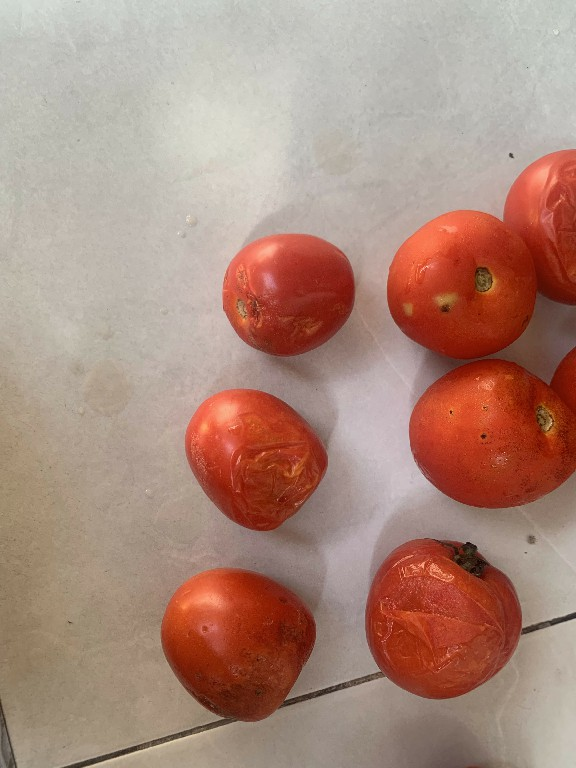NG: (351, 529, 519, 704), (155, 555, 329, 721), (401, 355, 573, 513), (387, 202, 547, 358), (179, 378, 334, 534), (213, 219, 374, 352)
